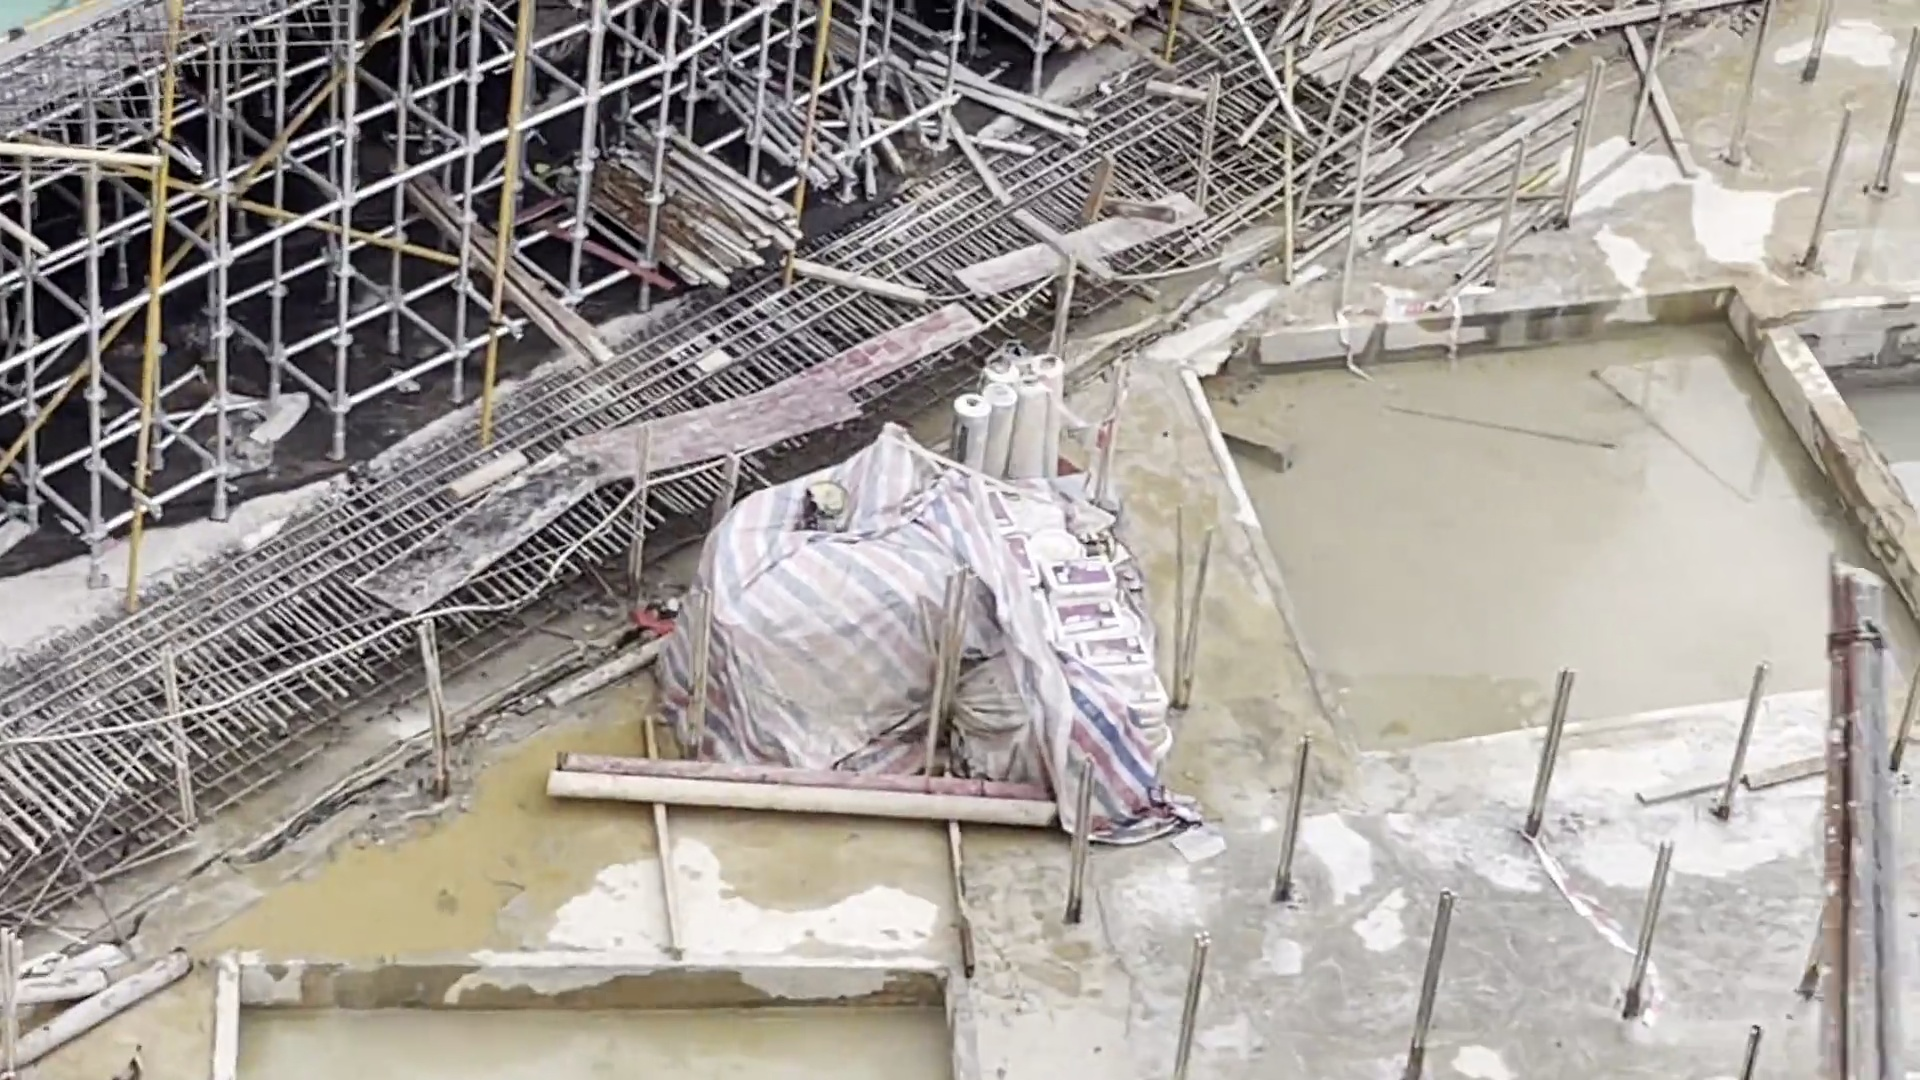wood: (560, 102, 818, 285), (998, 1, 1153, 65)
